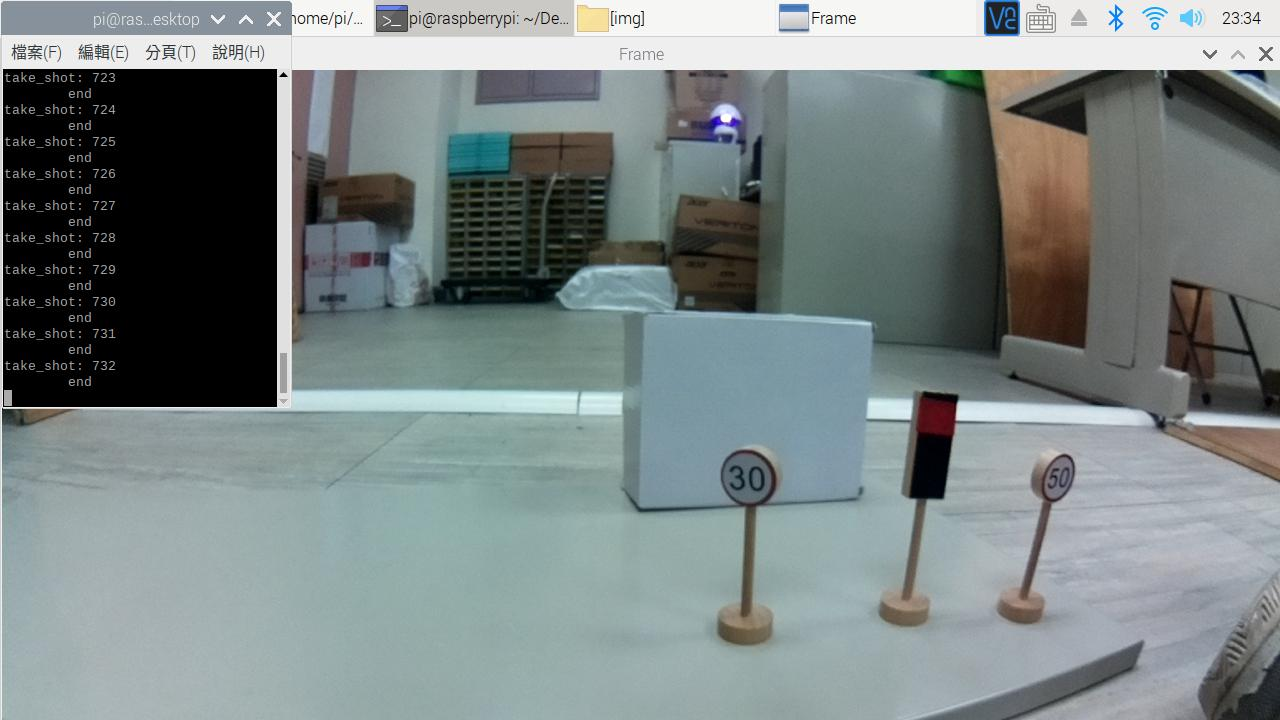Red: (909, 390, 952, 505)
Speed30: (718, 448, 786, 509)
Speed50: (1027, 448, 1077, 500)
